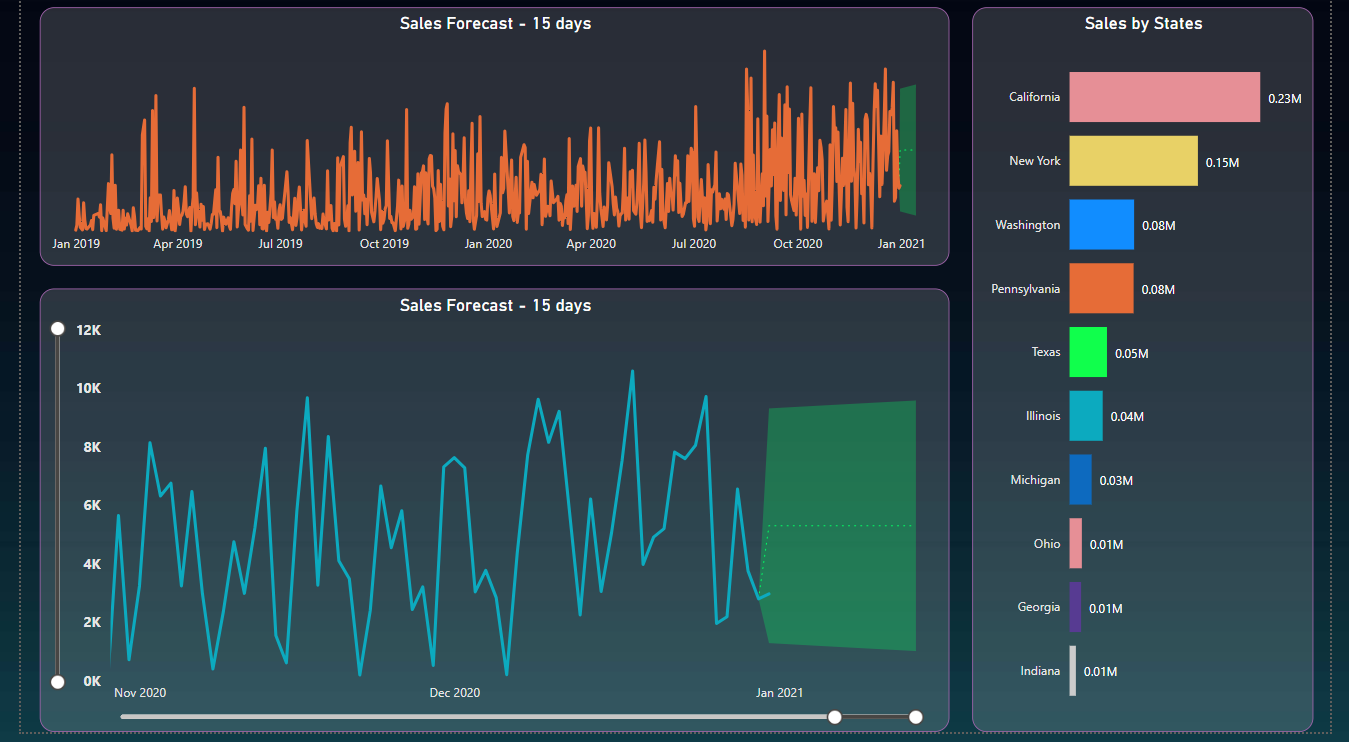

What the dashboard file says about the page in this screenshot:
{"tool":"powerbi","page":{"name":"Page 2","canvas":[1280,720],"ordinal":1},"visuals":[{"type":"lineChart","title":" Sales Forecast - 15 days","fields":{"Y":["Sum(SuperStore_Sales_Dataset.Sales)"],"Category":["SuperStore_Sales_Dataset.Order Date"]},"box":[18.8,11.2,890,233.8],"z":0},{"type":"lineChart","title":"Sales Forecast - 15 days","fields":{"Y":["Sum(SuperStore_Sales_Dataset.Sales)"],"Category":["SuperStore_Sales_Dataset.Order Date"]},"box":[18.8,261.2,890,427.5],"z":1000},{"type":"clusteredBarChart","title":"Sales by States","fields":{"Category":["SuperStore_Sales_Dataset.State"],"Y":["Sum(SuperStore_Sales_Dataset.Sales)"]},"box":[930,11.2,333.8,708.8],"z":2000}]}

Visuals, with their boxes in screenshot pixels (x1, y1, x2, y2), scaled from the page's 1280x720 canvas onto the 1349x742 screenshot:
" Sales Forecast - 15 days" lineChart: box(20, 12, 958, 252)
"Sales Forecast - 15 days" lineChart: box(20, 269, 958, 710)
"Sales by States" clusteredBarChart: box(980, 12, 1332, 741)
